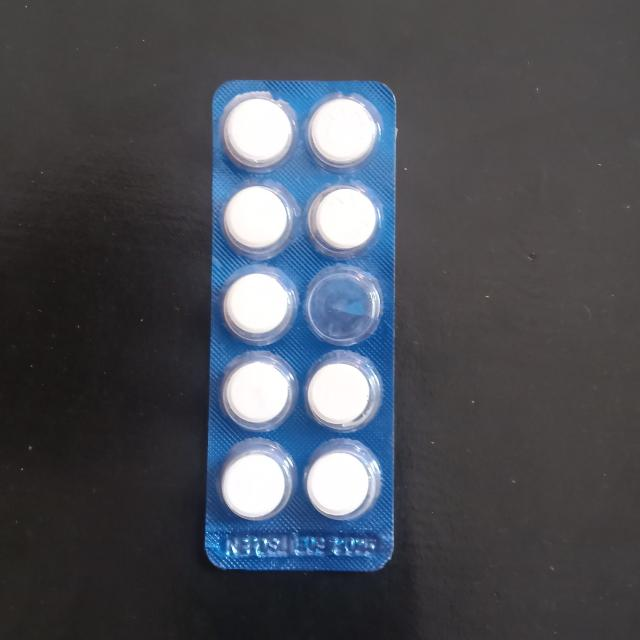defect: (306, 266, 388, 348)
